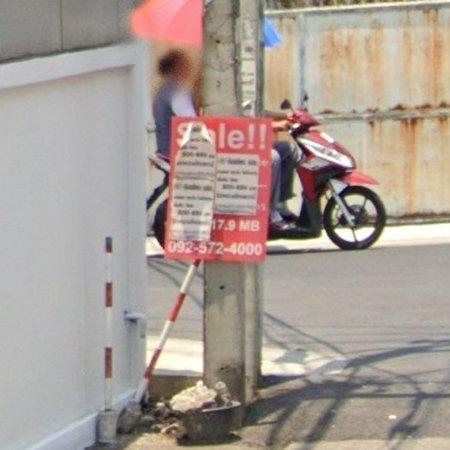motorcycles: (270, 108, 387, 249), (298, 138, 354, 168), (148, 155, 170, 210), (152, 199, 167, 248)
